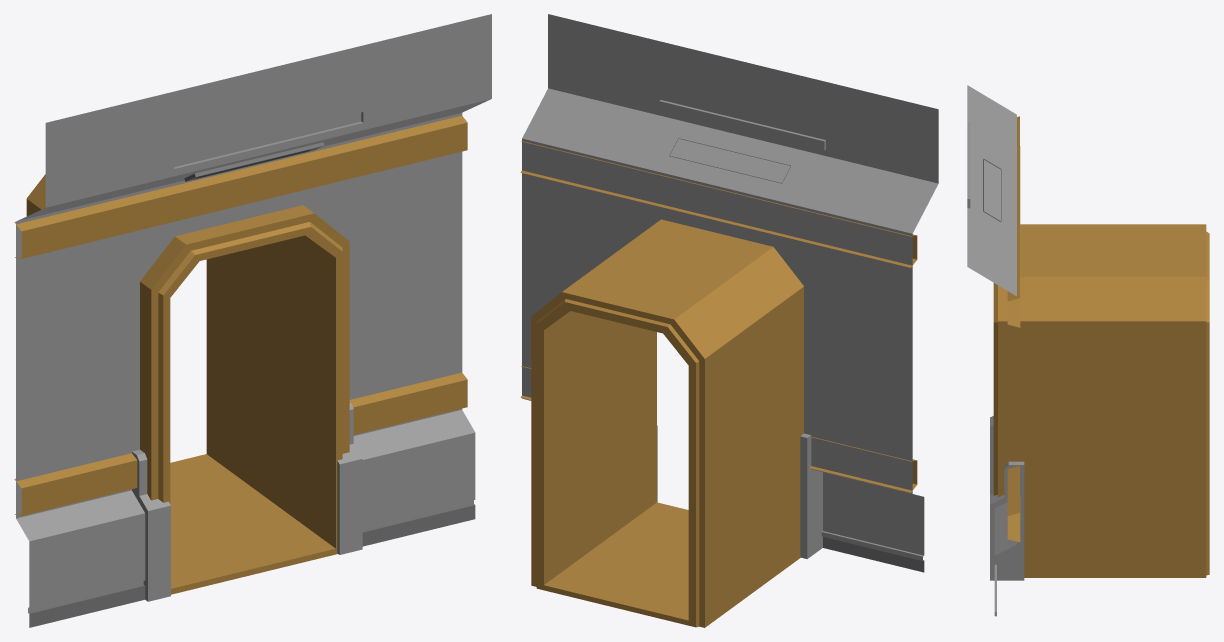
File: DoorSingleLong_Wall_SideA.glb
3 renders of one model, left to right at view 1: azimuth 30°, elevation 25°; view 2: azimuth 150°, elevation 25°; view 3: azimuth 270°, elevation 25°, orthographic. The views are drawn at different scales.
Parts seen in each view (by area): view 1: DoorSingleLong_Wall_SideA; view 2: DoorSingleLong_Wall_SideA; view 3: DoorSingleLong_Wall_SideA.
Boxes of the visible parts, x1,y1,x2,y2 form: DoorSingleLong_Wall_SideA: [14, 14, 491, 627]; DoorSingleLong_Wall_SideA: [520, 14, 938, 627]; DoorSingleLong_Wall_SideA: [967, 85, 1209, 616].
Size of the model in its own units: 1.36 by 1.51 by 0.7663.
